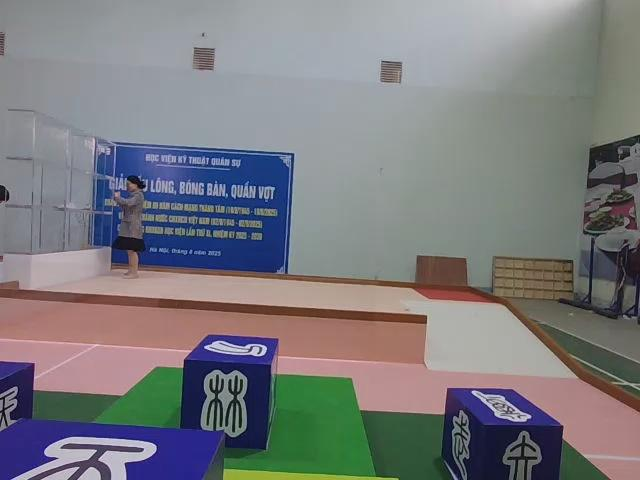R2 Fake Blue: (0, 417, 221, 479), (178, 334, 278, 452), (439, 388, 563, 480)
R2 Real Blue: (0, 362, 34, 463)
